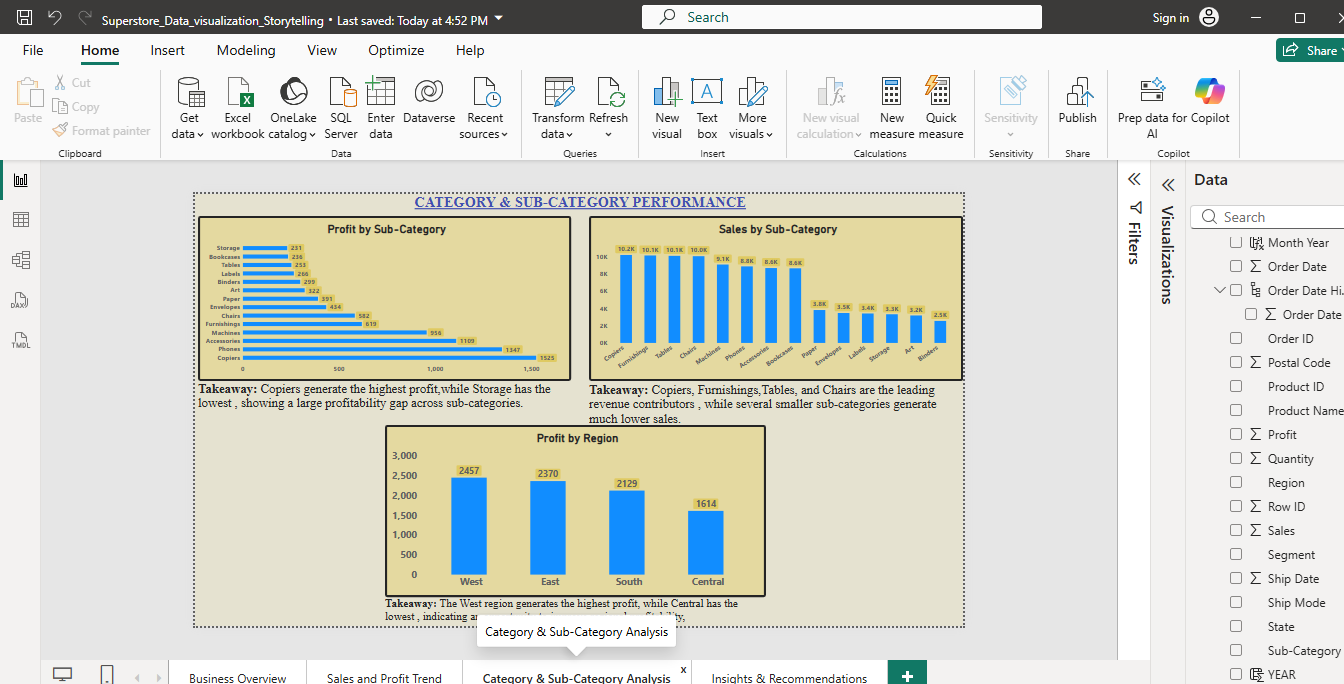

Layout of this report page (visuals, bound fields, positions):
{"tool":"powerbi","page":{"name":"Category & Sub-Category Analysis","canvas":[2560,1440],"ordinal":2},"visuals":[{"type":"textbox","box":[11.5,0,2548.8,97.9],"z":0},{"type":"clusteredBarChart","title":"Profit by Sub-Category","fields":{"Category":["Superstore Data.Sub-Category"],"Y":["Sum(Superstore Data.Profit)"]},"box":[11.5,74.9,1244.2,550.1],"z":1},{"type":"textbox","box":[11.5,748.8,1183.7,126.7],"z":2},{"type":"textbox","box":[11.5,625,1244.2,164.2],"z":3},{"type":"clusteredColumnChart","title":"Sales by Sub-Category","fields":{"Category":["Superstore Data.Sub-Category"],"Y":["Sum(Superstore Data.Sales)"]},"box":[1313.3,74.9,1247,550.1],"z":4},{"type":"textbox","box":[1314.1,626.3,1246.8,163.9],"z":5},{"type":"clusteredColumnChart","title":"Profit by Region","fields":{"Category":["Superstore Data.Region"],"Y":["Sum(Superstore Data.Profit)"]},"box":[632.2,769.8,1270.2,573.7],"z":6},{"type":"textbox","box":[632.2,1343.4,1270.2,96.6],"z":7}]}

Visuals, with their boxes on the page's 2560x1440 design canvas (x1, y1, x2, y2). These are canvas units, not pixel positions in the 1344x684 screenshot, which may show the page scaled, cropped or inside an application window:
textbox: 12 0 2560 98
"Profit by Sub-Category" clusteredBarChart: 12 75 1256 625
textbox: 12 749 1195 876
textbox: 12 625 1256 789
"Sales by Sub-Category" clusteredColumnChart: 1313 75 2560 625
textbox: 1314 626 2561 790
"Profit by Region" clusteredColumnChart: 632 770 1902 1344
textbox: 632 1343 1902 1440
